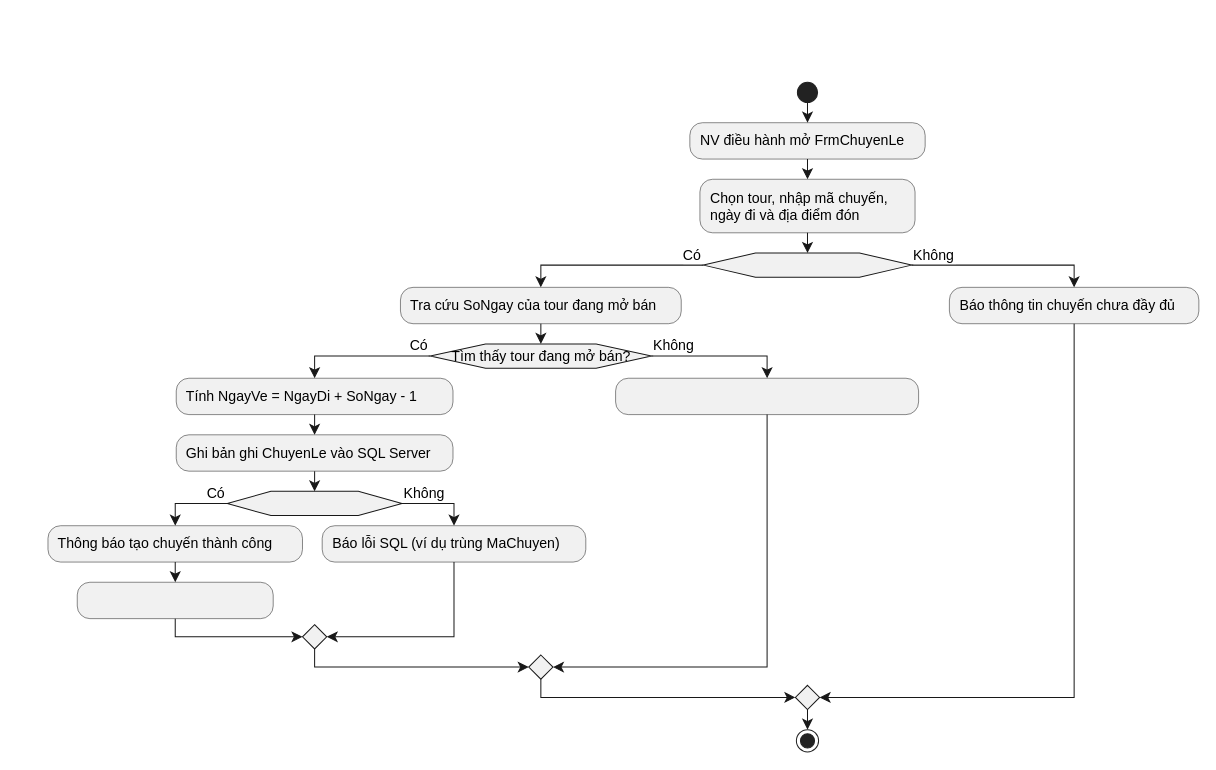
This 1216x770 diagram has some shape labels left out. The shapes that lost their labels are listed below. From the top down, each one's box as (x1, y1, x2, y2) in pixels, then its label:
(702, 252, 912, 277): Thông tin bắt buộc đầy đủ?
(615, 378, 918, 414): Báo tour không tồn tại hoặc chưa mở bán
(226, 490, 402, 516): Ghi CSDL thành công?
(77, 582, 273, 618): Nạp lại danh sách chuyến
